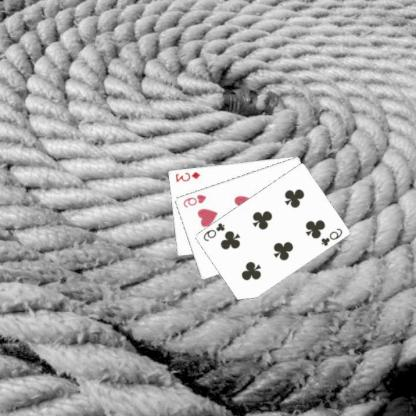3D: (174, 169, 204, 183)
6C: (202, 220, 228, 242), (320, 226, 345, 248)
6H: (182, 192, 209, 209)
